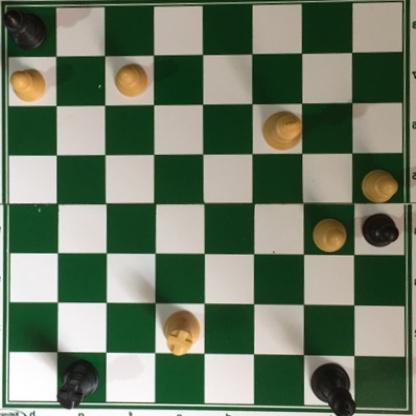black-bishop: (1, 6, 49, 53)
black-king: (310, 359, 358, 415)
black-pawn: (360, 213, 399, 249)
black-rook: (51, 359, 99, 415)
white-king: (261, 110, 303, 153)
white-pawn: (7, 67, 48, 105), (359, 168, 399, 204), (113, 63, 150, 101), (310, 217, 348, 254)
white-rook: (161, 309, 201, 357)
